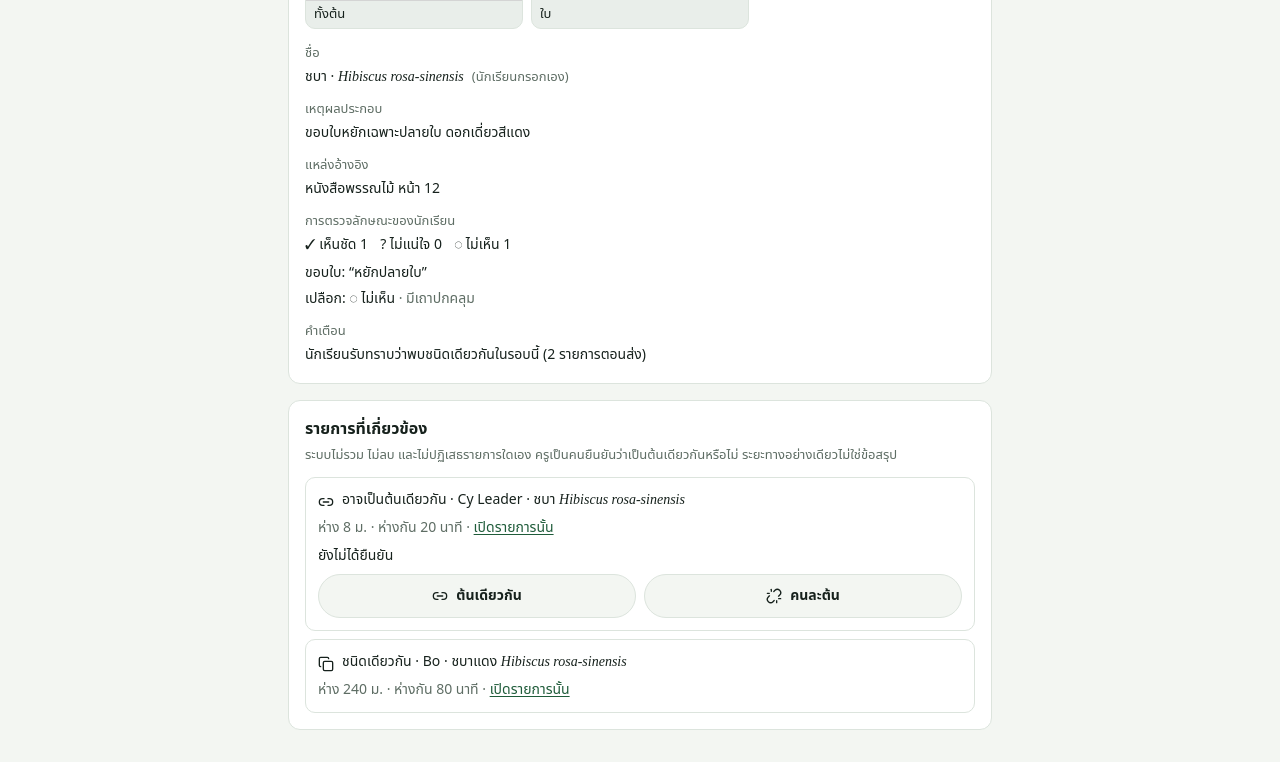
Test case: TeacherReviewScreen › reports a decision another teacher changed and reloads it
(page scrolled)
Click the button "คนละต้น" at [803, 596], box top-left (644, 574), bottom-right (962, 618)
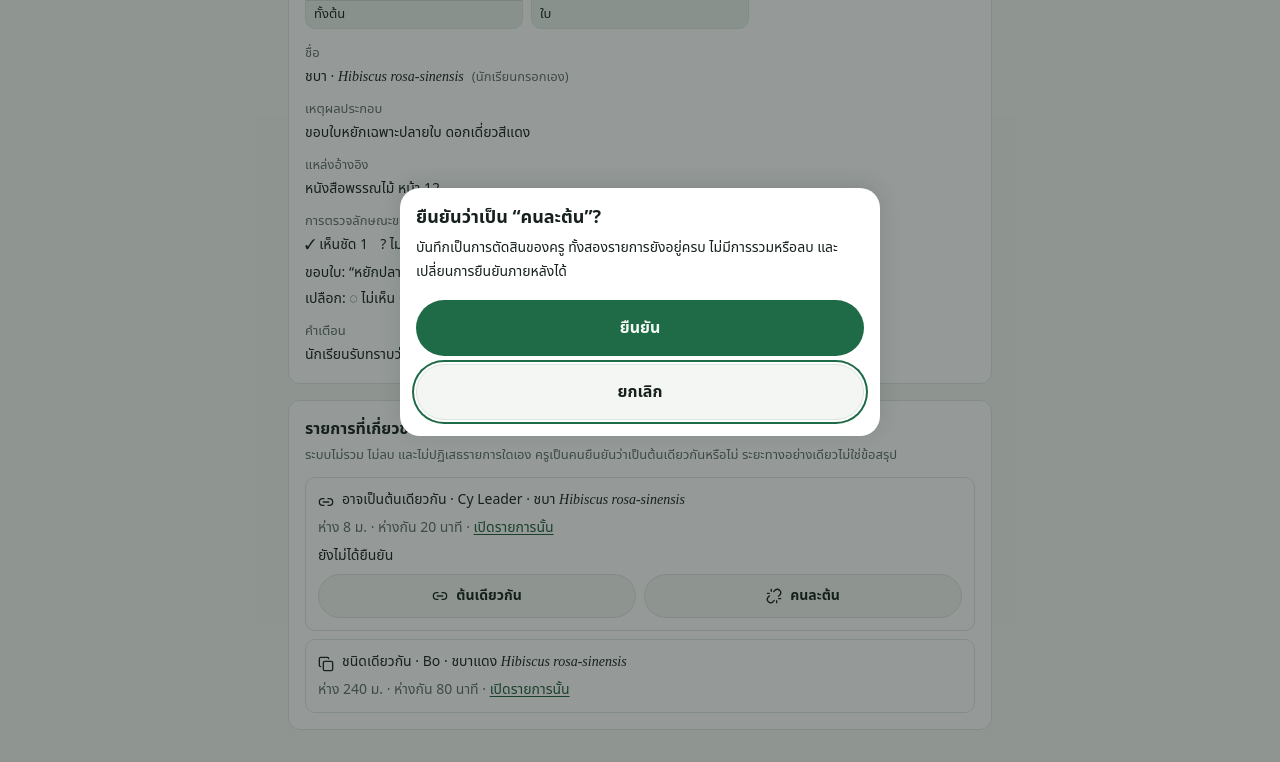
Click the button "ยืนยัน" at [640, 328], box top-left (416, 300), bottom-right (864, 356)
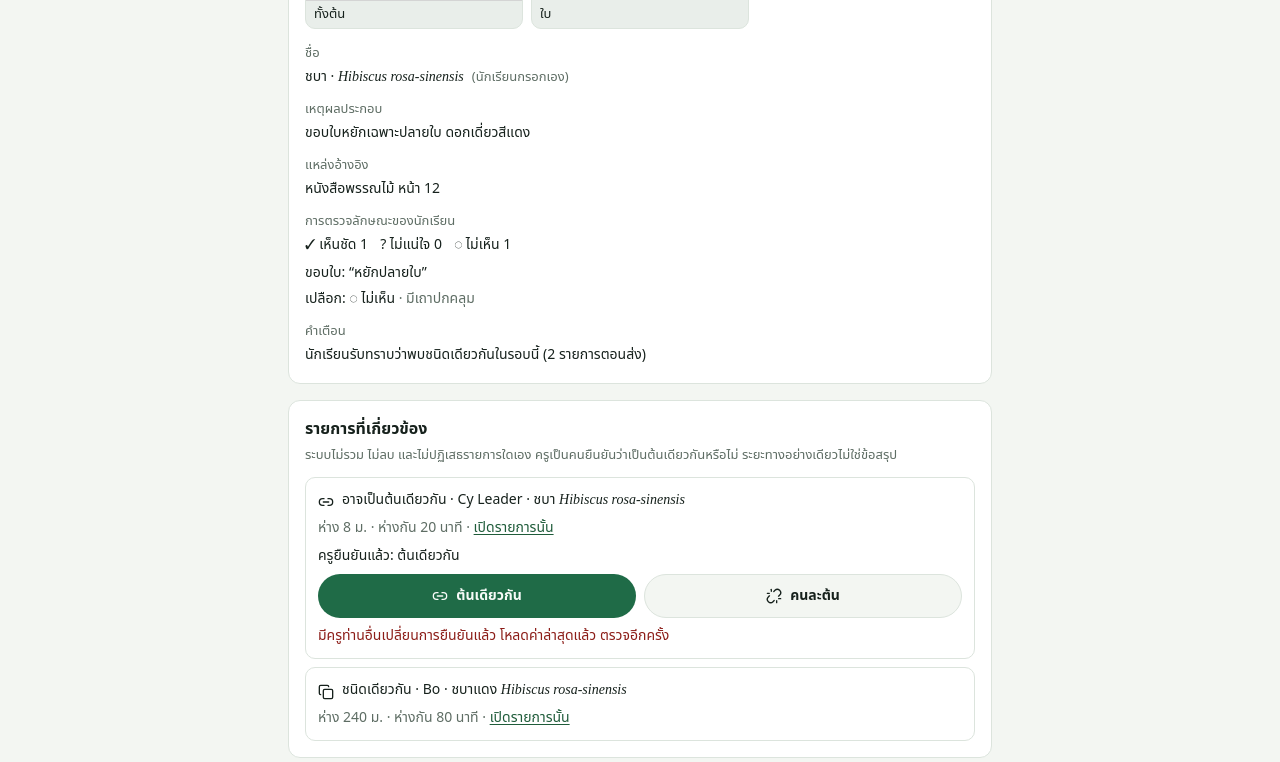
Now the text "มีครูท่านอื่นเปลี่ยนการยืนยันแล้ว โหลดค่าล่าสุดแล้ว ตรวจอีกครั้ง" is shown, box top-left (318, 625), bottom-right (669, 646)
Now the text "ครูยืนยันแล้ว: ต้นเดียวกัน" is shown, box top-left (318, 545), bottom-right (460, 566)
